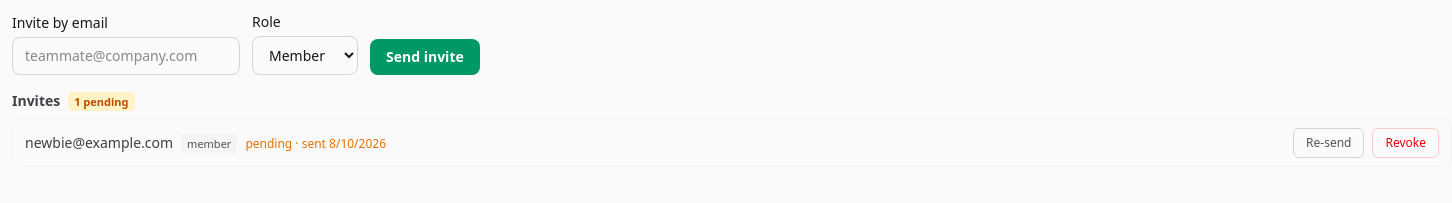
TeamInvites › revokes a pending invite
The width and height of the screenshot is (1452, 203).
Expected: the text "newbie@example.com" is shown, [25,133,173,152]
Click the button "Revoke" at (1406, 143), box [1372,128,1439,158]
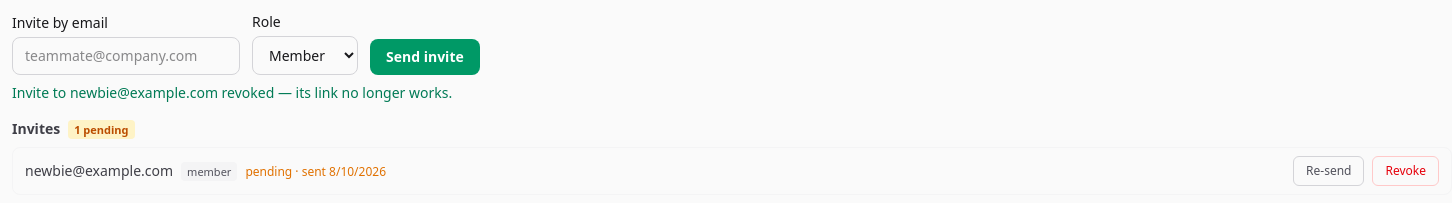
Expected: the text "revoked — its link no longer works" is shown, [12,83,452,102]
